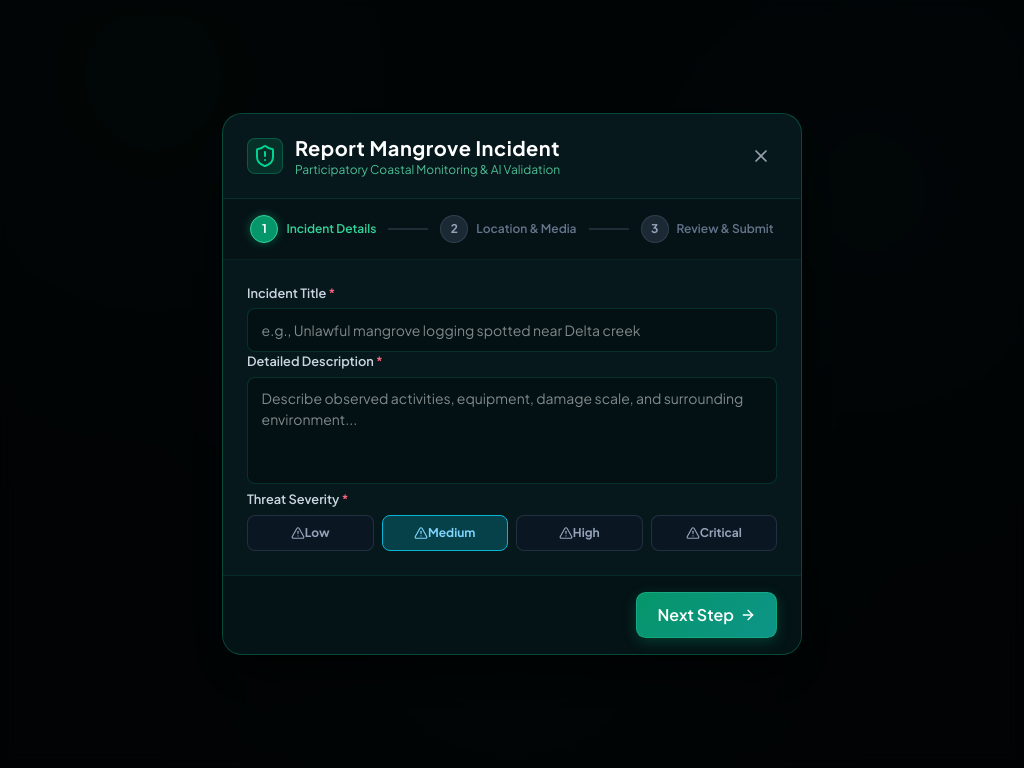
Scenario: MultiStepReportModal Component › navigates to Step 2 when Step 1 is valid, and allows navigating back
The image size is (1024, 768).
Step 1. Type "Illegal Felling Spotted" into the field with placeholder "e.g., Unlawful mangrove logging spotted near Delta creek" → x=512, y=330, box top-left (247, 308), bottom-right (777, 352)
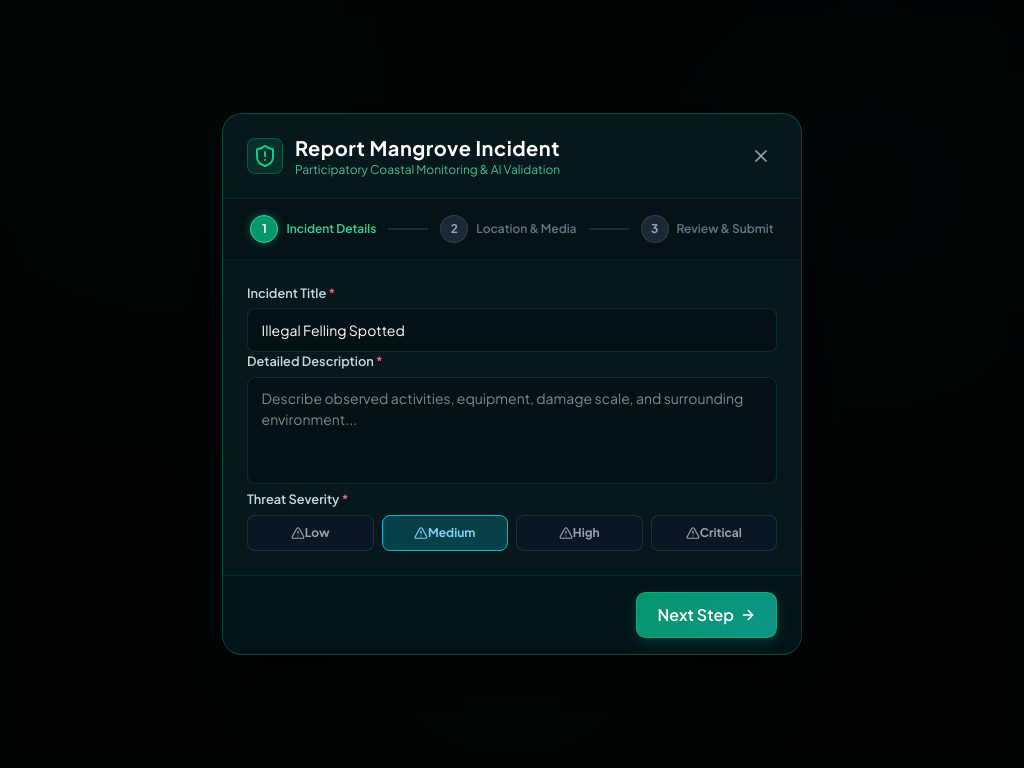
Step 2. Replace the text in the text box with placeholder "Describe observed activities" with "Detailed description of logging machinery in creek" → x=512, y=430, box top-left (247, 377), bottom-right (777, 484)
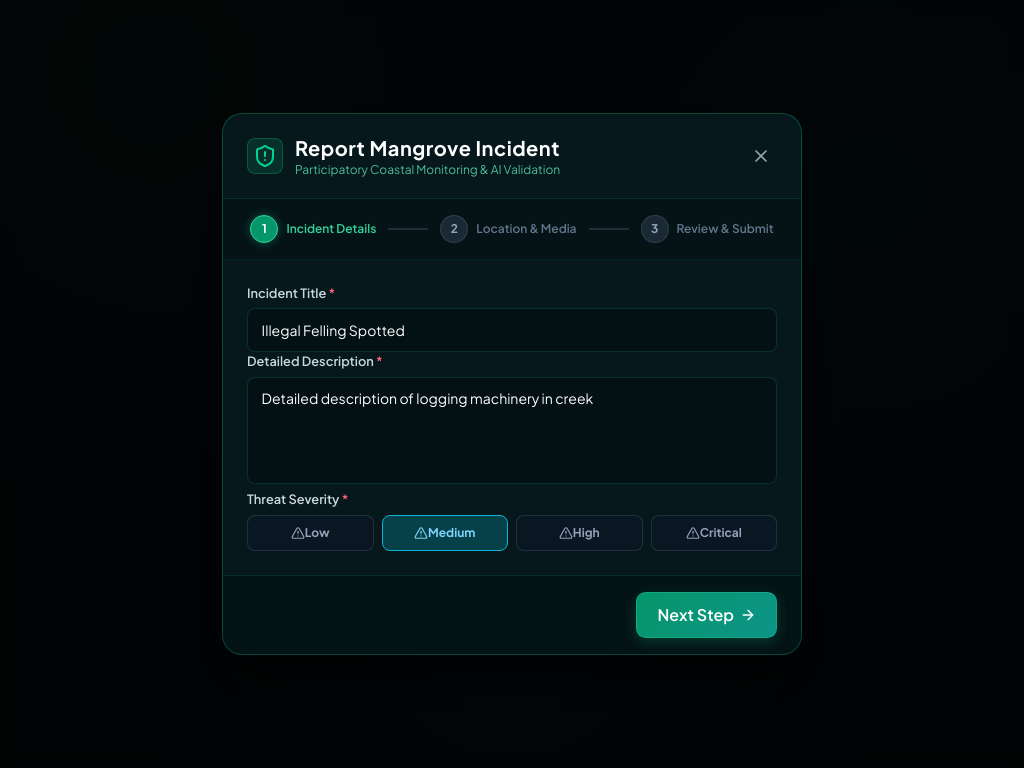
Note: Click Next Step
Step 3. Click the button "Next Step" → x=707, y=615, box top-left (636, 592), bottom-right (777, 638)
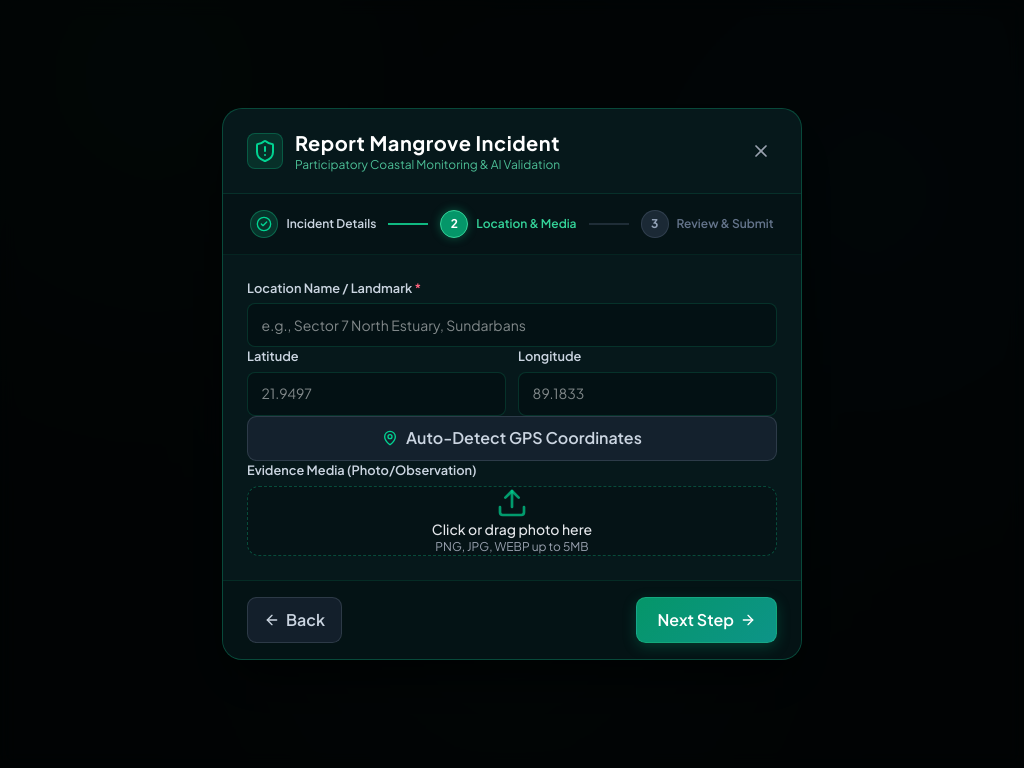
Now the text "Location Name / Landmark" is shown, box top-left (247, 280), bottom-right (414, 296)
Now the text "Auto-Detect GPS Coordinates" is shown, box top-left (406, 426), bottom-right (642, 450)
Note: Click Back
Step 4. Click the button "Back" → x=295, y=620, box top-left (247, 598), bottom-right (342, 643)
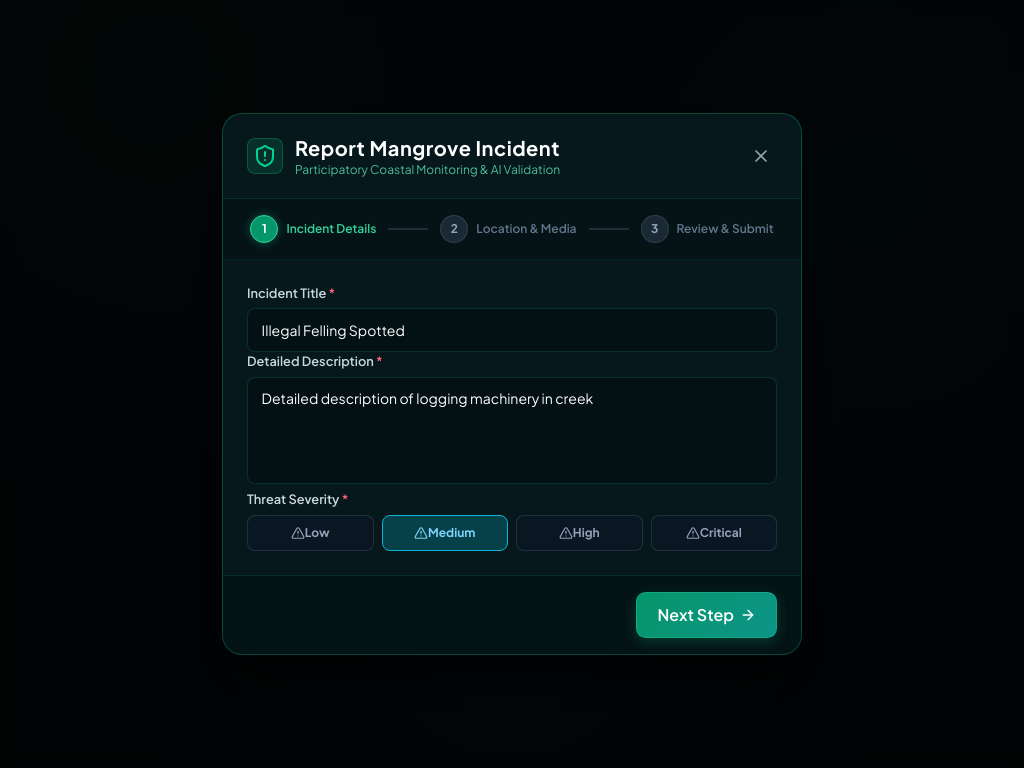
Now the text "Incident Title" is shown, box top-left (247, 285), bottom-right (329, 301)
Now the field showing "Illegal Felling Spotted" is shown, box top-left (247, 308), bottom-right (777, 352)
